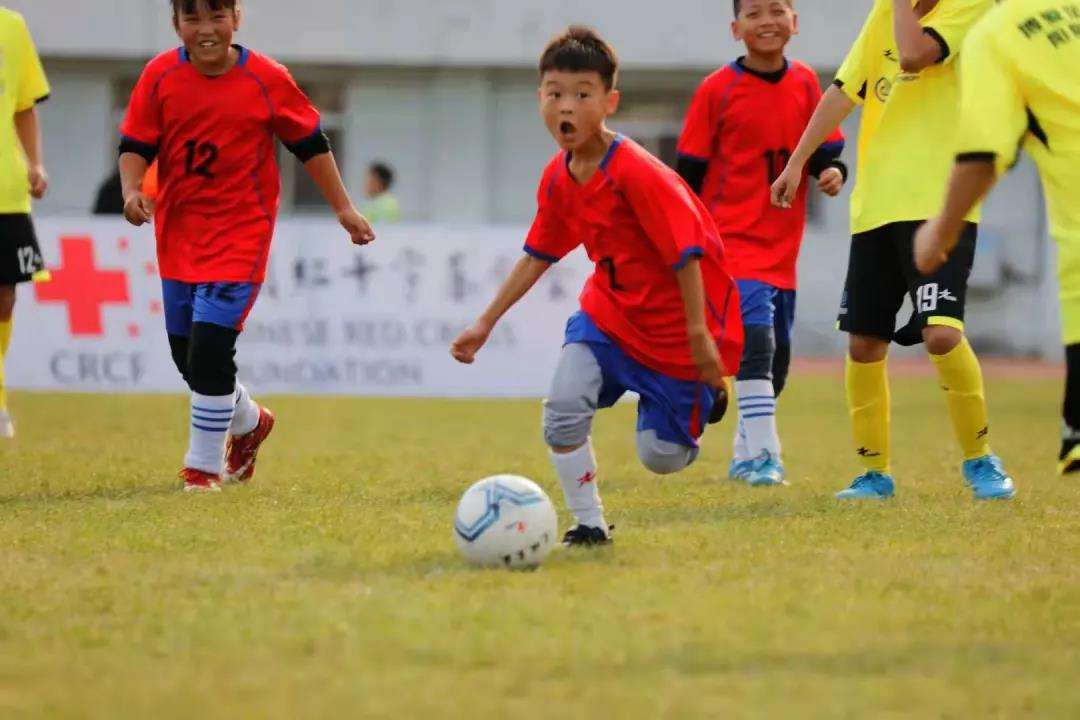football: (453, 472, 560, 575)
